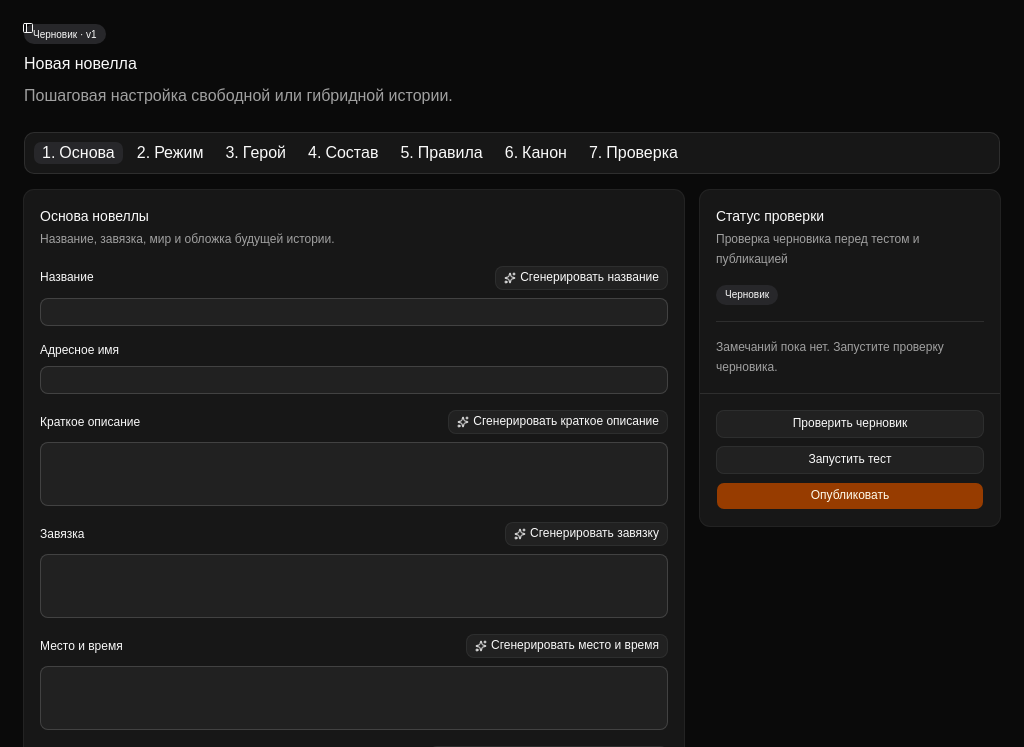
errors block publication, warnings do not, and validation always precedes test and publish
Click the button "7. Проверка" at {"x": 633, "y": 153}, box top-left (580, 141), bottom-right (687, 165)
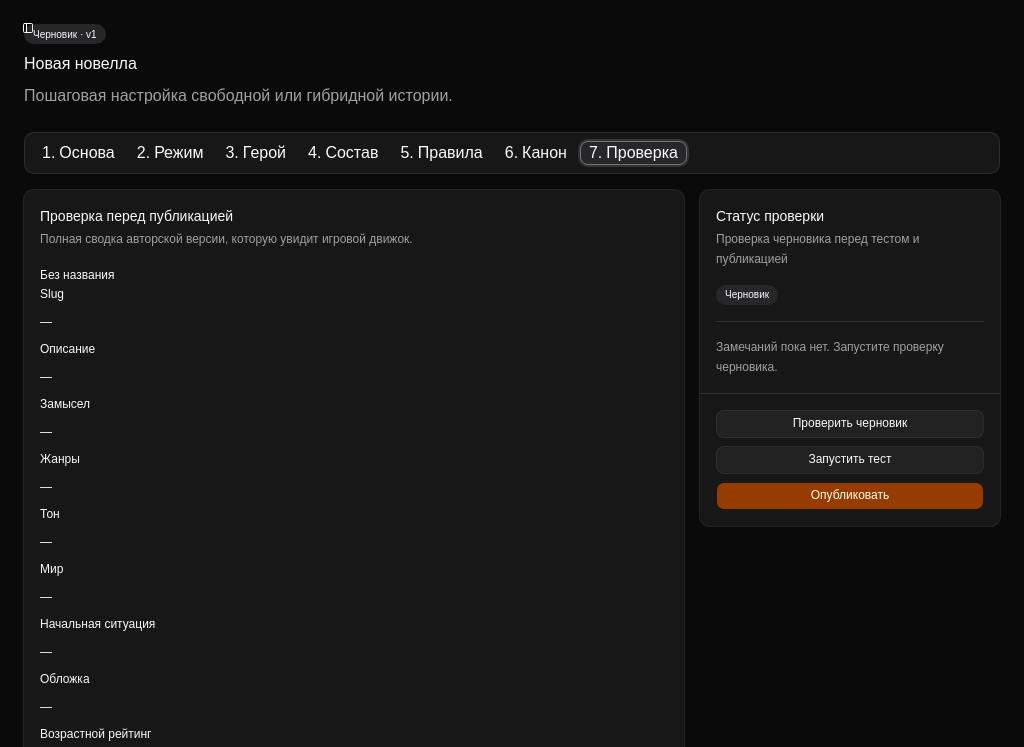
Click the button "Проверить черновик" at {"x": 850, "y": 424}, box top-left (716, 410), bottom-right (984, 438)
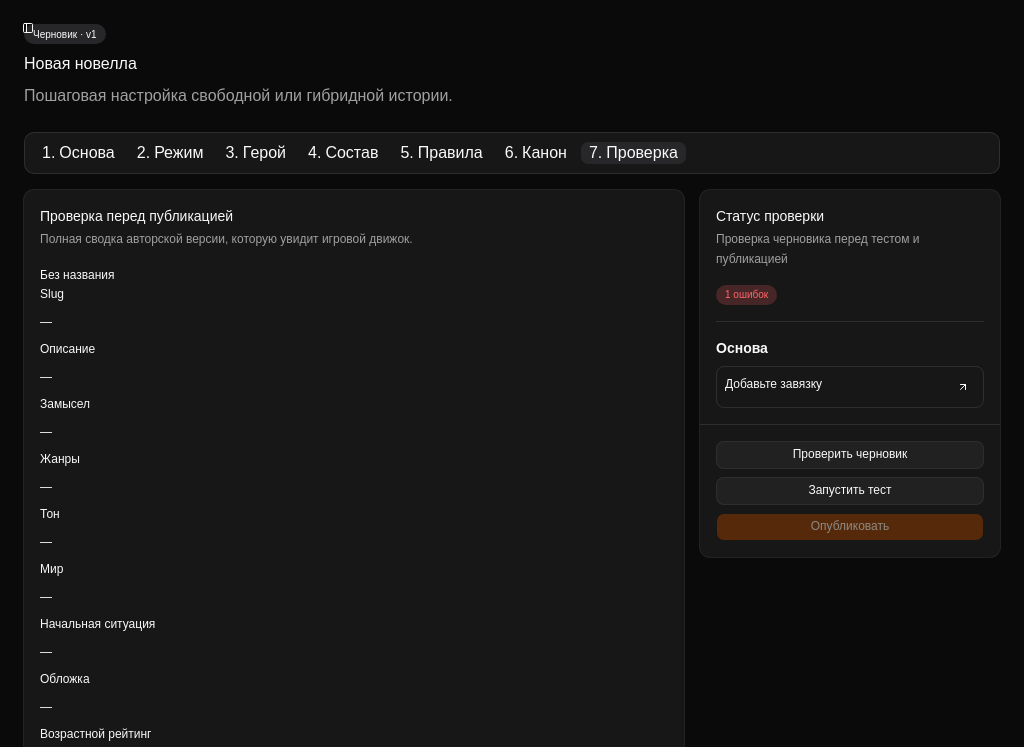
Expected: the button "Опубликовать" is disabled, top-left (716, 513), bottom-right (984, 541)
Click the button "Проверить черновик" at {"x": 850, "y": 455}, box top-left (716, 441), bottom-right (984, 469)
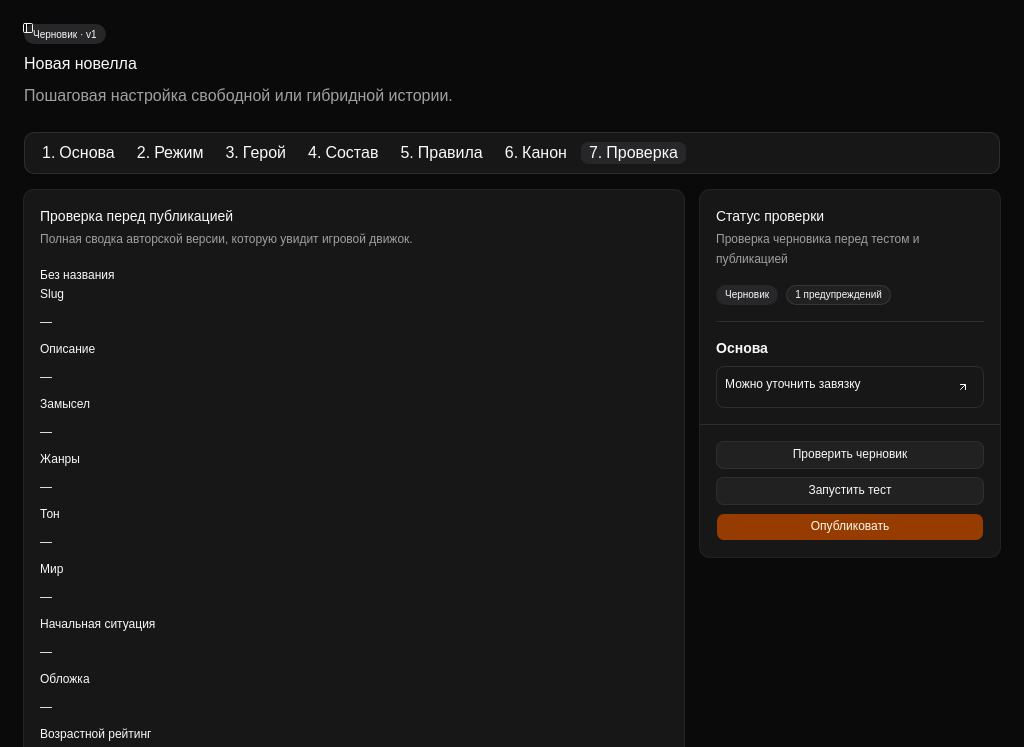
Expected: the button "Опубликовать" is enabled
Click the button "Опубликовать" at {"x": 850, "y": 527}, box top-left (716, 513), bottom-right (984, 541)
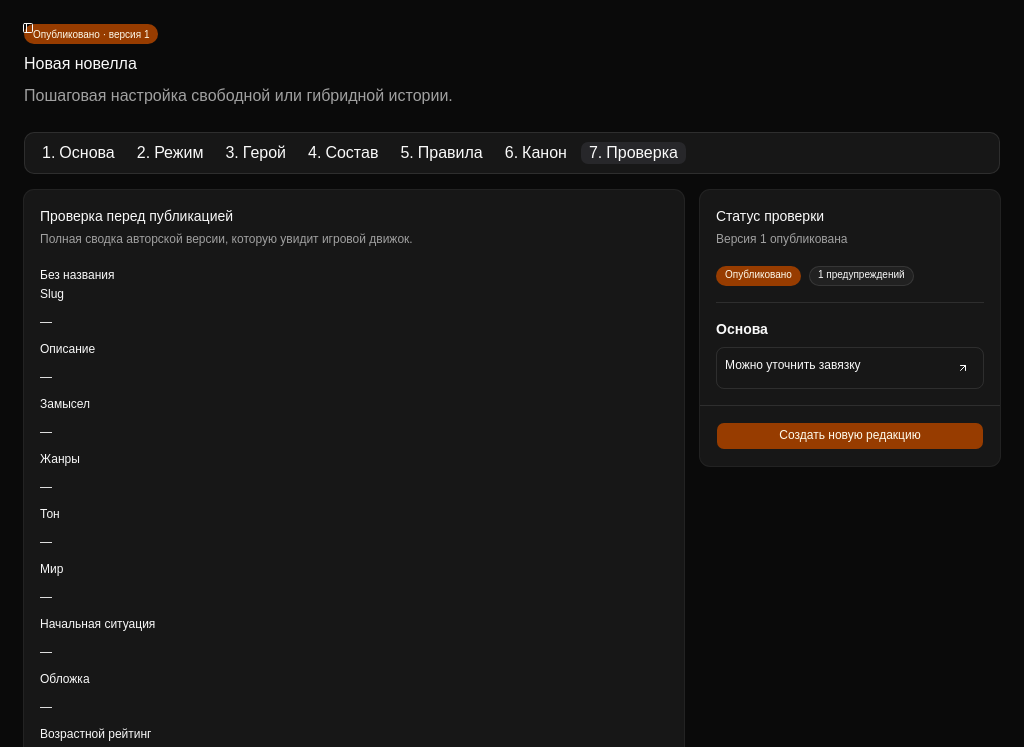
Expected: the button "Создать новую редакцию" is shown, top-left (716, 422), bottom-right (984, 450)
